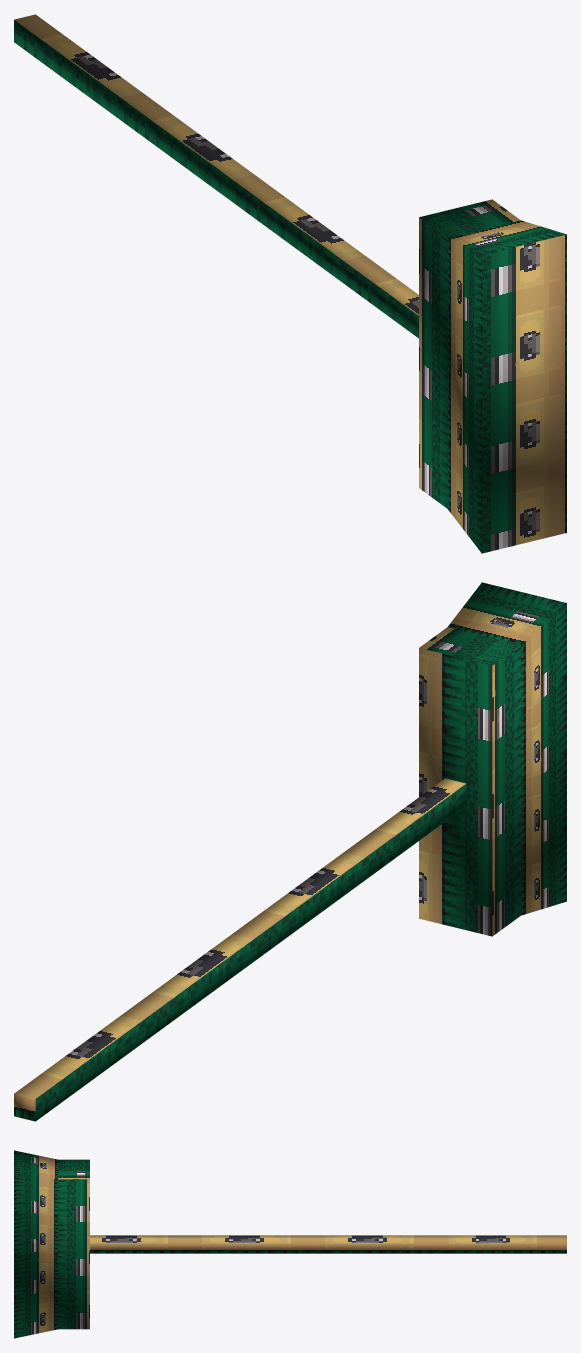
File: 2709sbim03_02.gltf
3 views of the same model, one above another, from view 1: azimuth 30°, elevation 25°; view 2: azimuth 150°, elevation 25°; view 3: azimuth 270°, elevation 25° (orthographic). The views are drawn at different scales.
Parts seen in each view (by area): view 1: 2709sbim03_02; view 2: 2709sbim03_02; view 3: 2709sbim03_02.
Part boxes in pixels (left/top/right/bottom): 2709sbim03_02: left=14, top=14, right=566, bottom=553; 2709sbim03_02: left=14, top=582, right=566, bottom=1121; 2709sbim03_02: left=14, top=1150, right=566, bottom=1338.
Size of the model in its own units: 0.1885 by 0.6318 by 1.92.
Materials: 1 (1 with a texture image).
